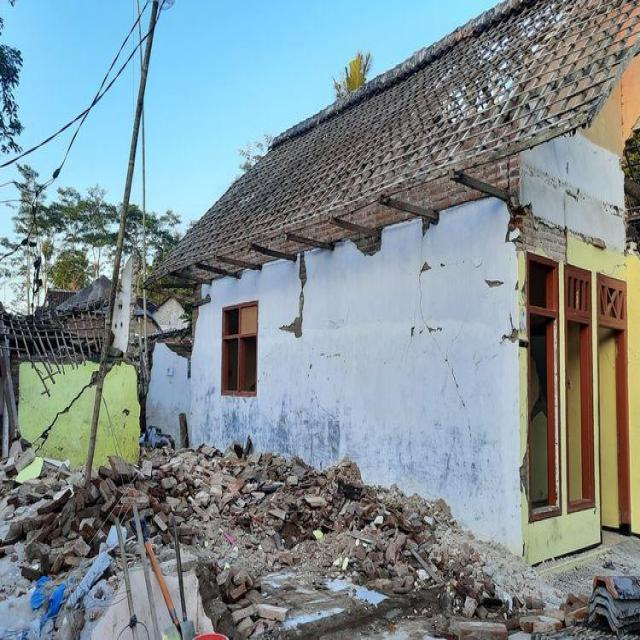damage: (13, 432, 545, 640), (2, 271, 200, 475)
